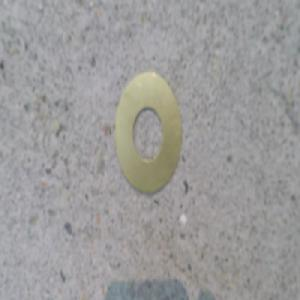Washer: (115, 79, 183, 199)
